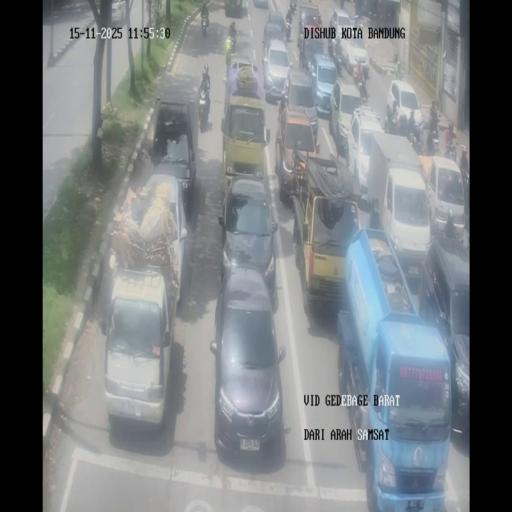3: (338, 232, 450, 506), (292, 155, 364, 315), (362, 132, 430, 274), (149, 89, 199, 211), (223, 0, 243, 18)
car: (210, 268, 285, 462), (102, 265, 177, 432), (217, 176, 278, 297), (274, 96, 318, 202), (424, 155, 466, 238), (308, 53, 338, 118), (387, 78, 423, 132), (262, 39, 292, 101), (226, 56, 258, 92), (329, 8, 355, 48), (299, 13, 322, 54), (264, 11, 286, 43), (105, 0, 126, 24)
truck: (197, 84, 210, 131), (461, 172, 469, 230), (356, 47, 370, 78), (409, 128, 424, 155), (356, 74, 369, 104), (445, 139, 458, 161), (225, 29, 236, 53), (429, 99, 438, 127), (334, 44, 343, 71), (430, 132, 440, 153), (284, 20, 292, 42), (328, 34, 335, 59), (201, 12, 208, 36), (354, 12, 364, 28), (394, 59, 402, 79), (290, 0, 297, 13), (316, 12, 322, 26)
